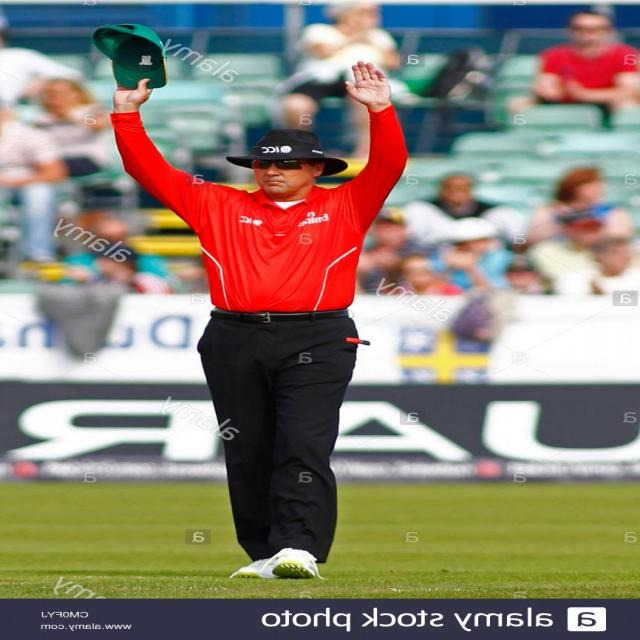Six: (83, 19, 415, 587)
